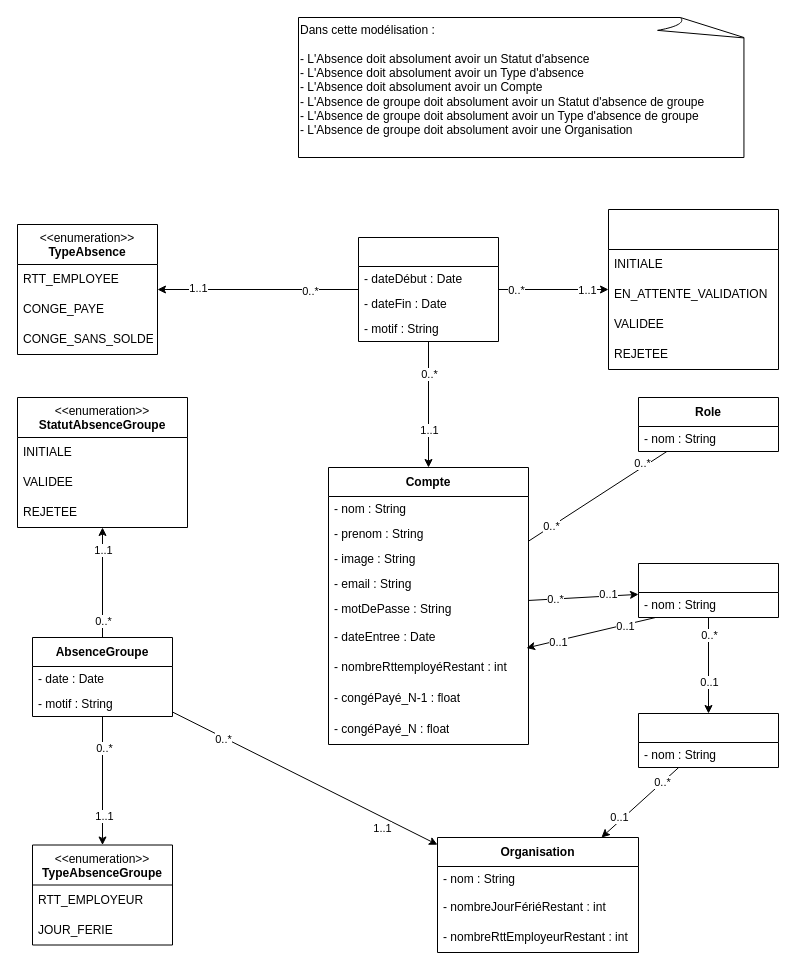
Some shapes in this 796 by 970 pixel diagram are drawn without their labels. The box of each missing label's shape, as (x1, y1, x2, y2) in pixels:
<<enumeration>> StatutAbsence: (608, 208, 778, 370)
Absence: (358, 236, 498, 342)
Departement: (638, 712, 778, 768)
Groupe: (638, 562, 778, 618)
